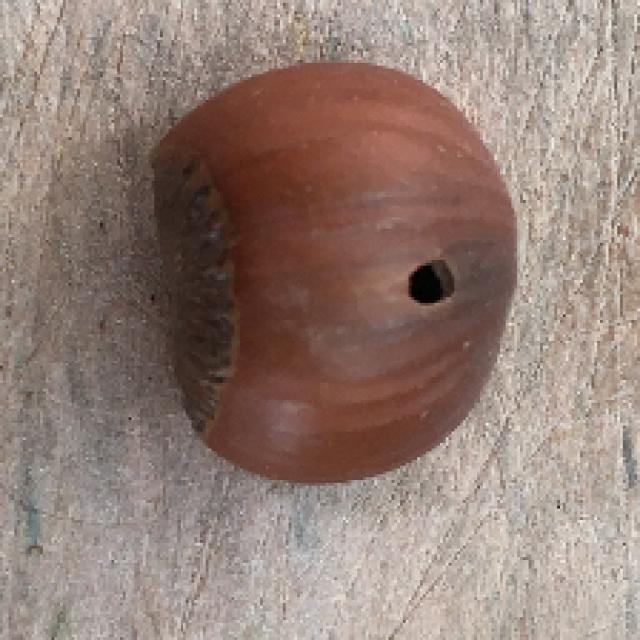damagedHazelnut: (142, 59, 524, 490)
